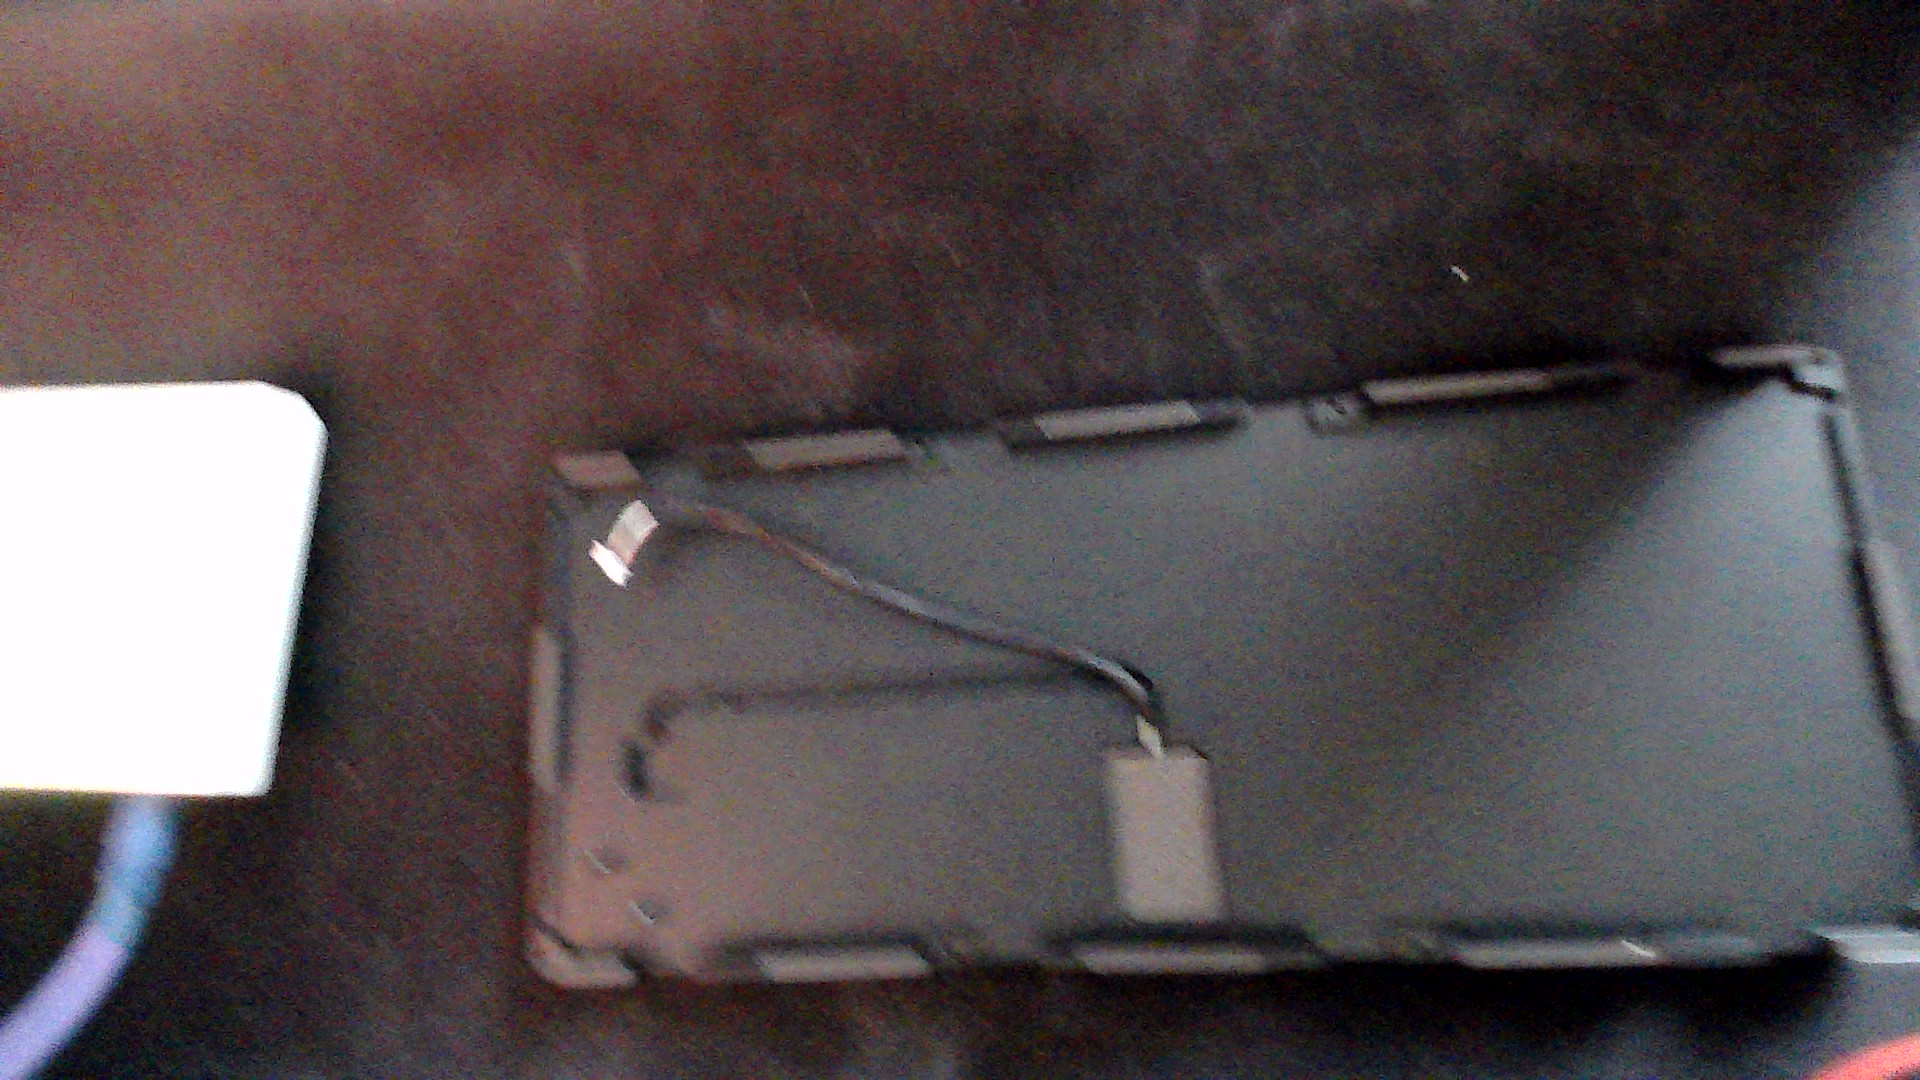case: (498, 303, 1916, 1031)
